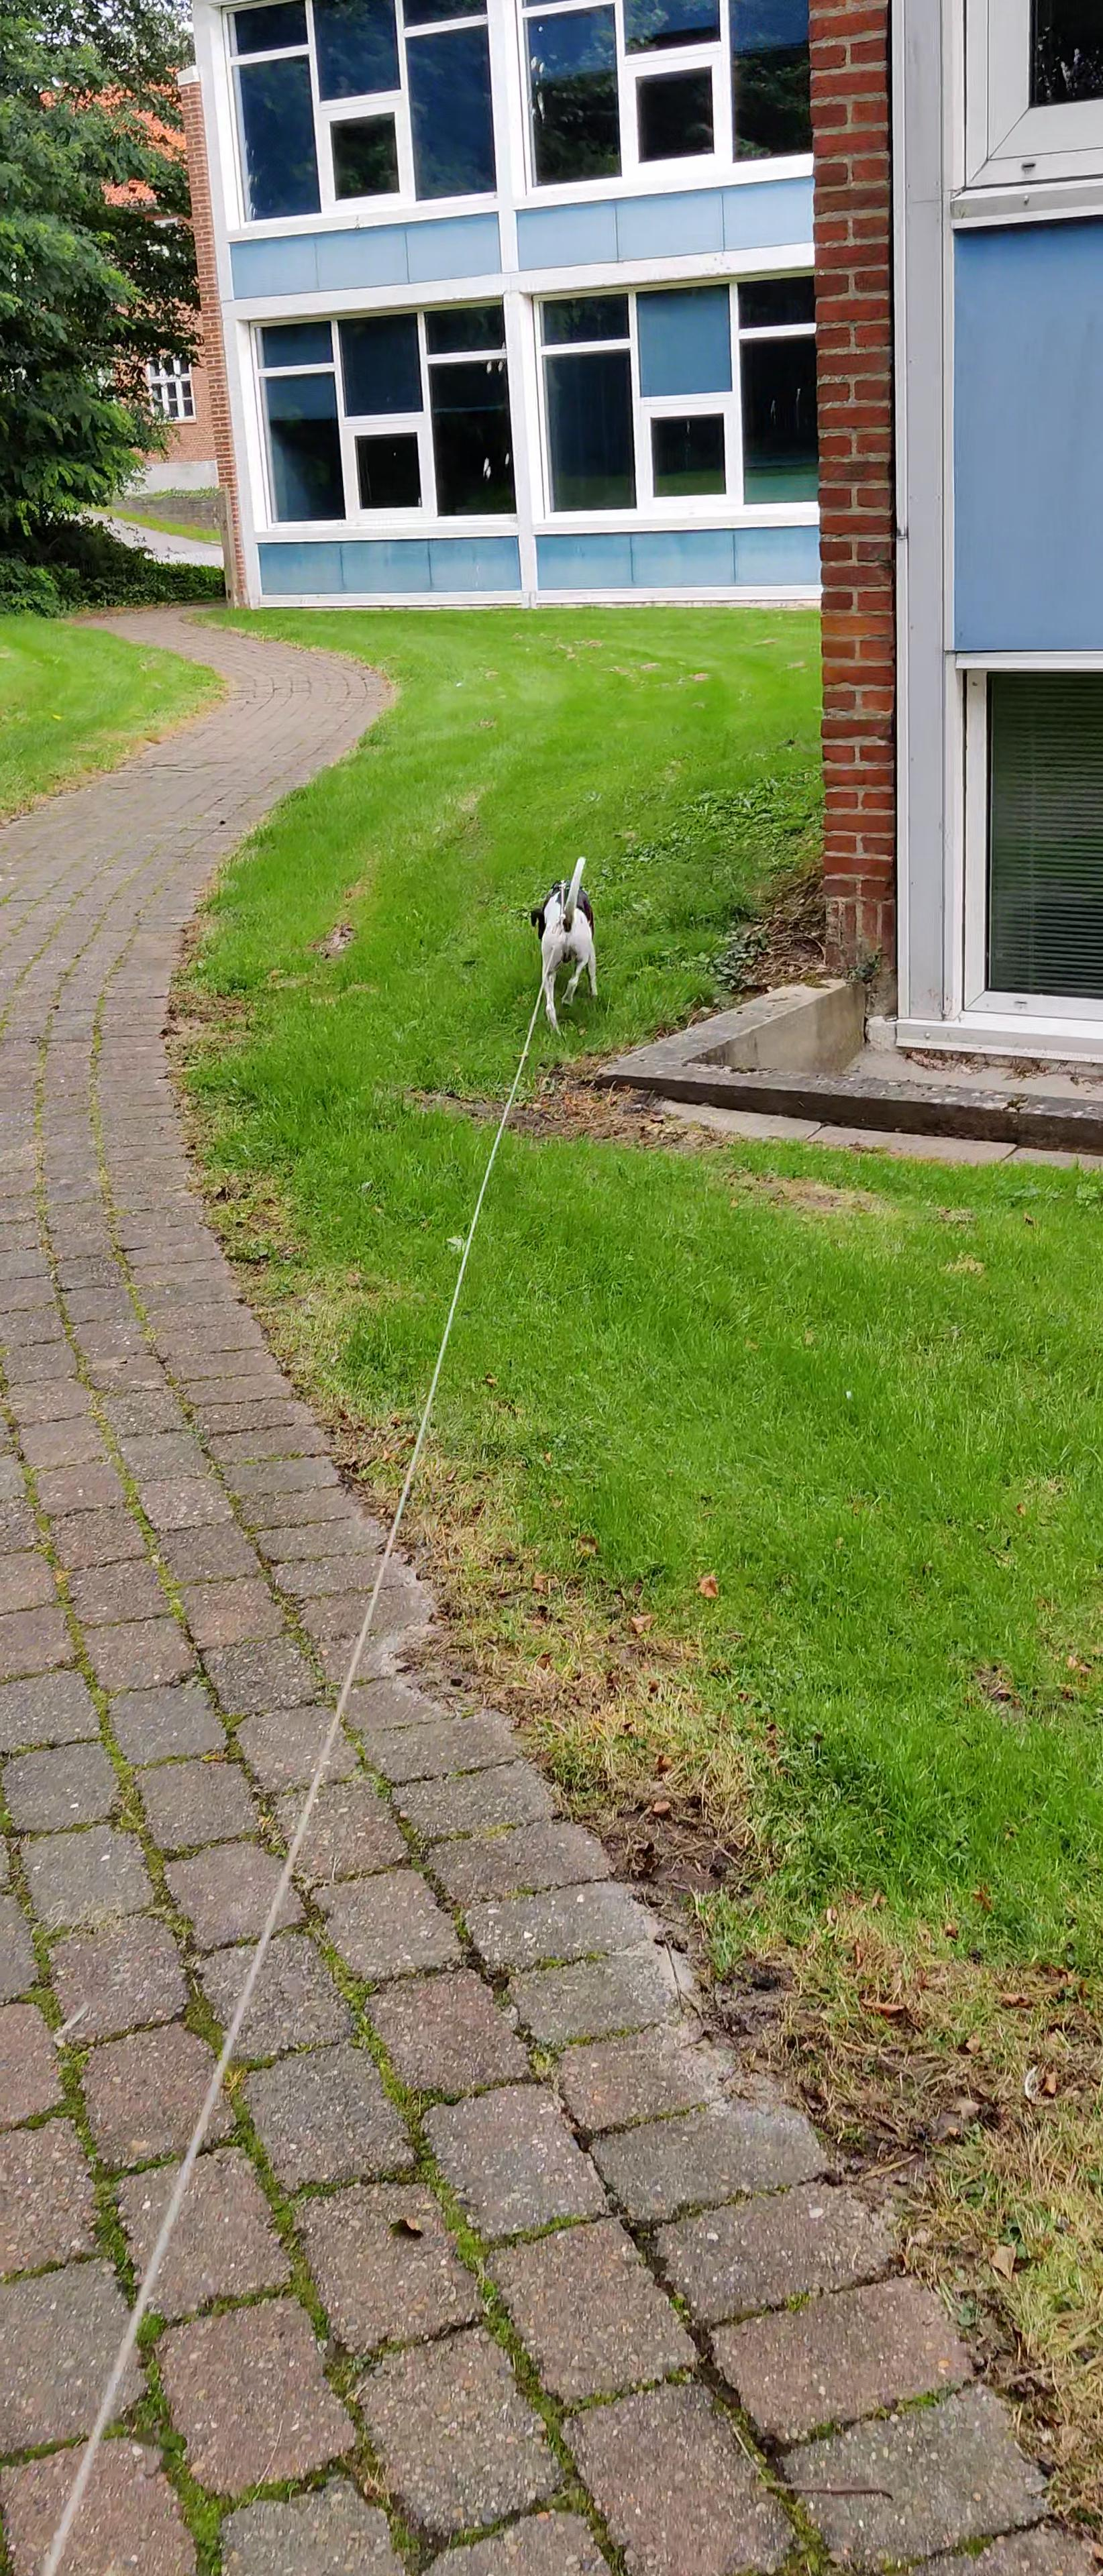Dog: (529, 853, 602, 1035)
